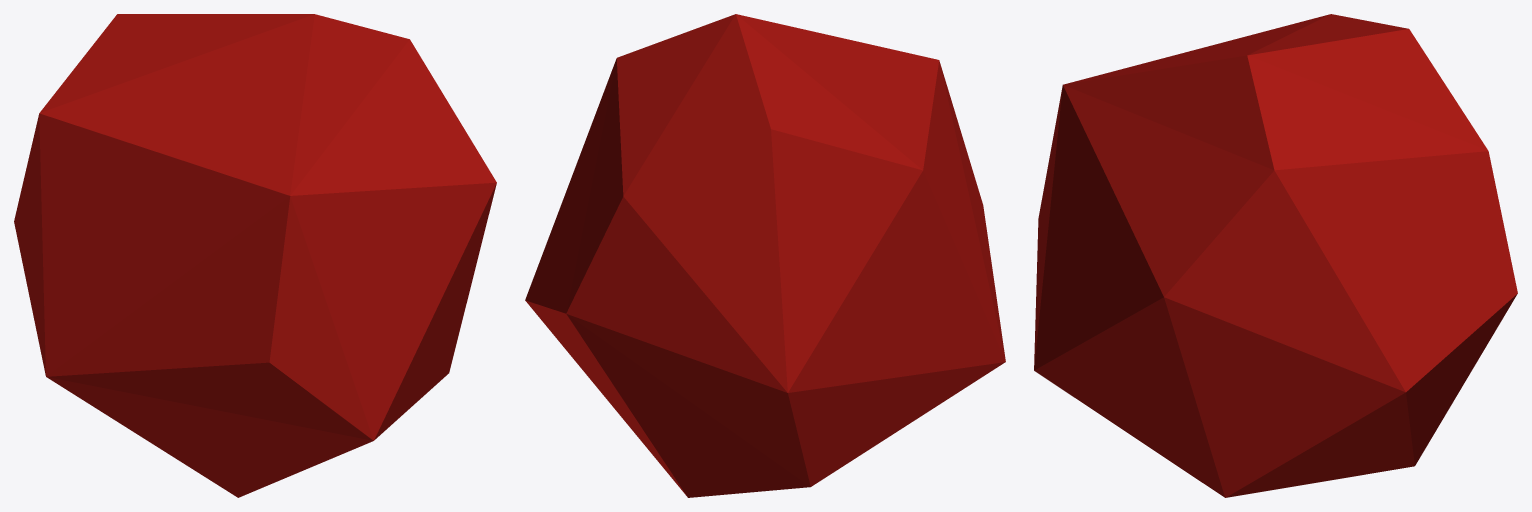
Rendered from 2_Power Pellet.obj.
3 renders of one model, left to right at view 1: azimuth 30°, elevation 25°; view 2: azimuth 150°, elevation 25°; view 3: azimuth 270°, elevation 25°, orthographic. The views are drawn at different scales.
Parts seen in each view (by area): view 1: Power_Pellet.000_Crystal4_Icosphere.002; view 2: Power_Pellet.000_Crystal4_Icosphere.002; view 3: Power_Pellet.000_Crystal4_Icosphere.002.
Boxes of the visible parts, x1,y1,x2,y2 form: Power_Pellet.000_Crystal4_Icosphere.002: [14, 14, 496, 497]; Power_Pellet.000_Crystal4_Icosphere.002: [525, 14, 1005, 497]; Power_Pellet.000_Crystal4_Icosphere.002: [1034, 14, 1517, 497].
Bounding box in the file's own units: 0.475 × 0.501 × 0.4801.
